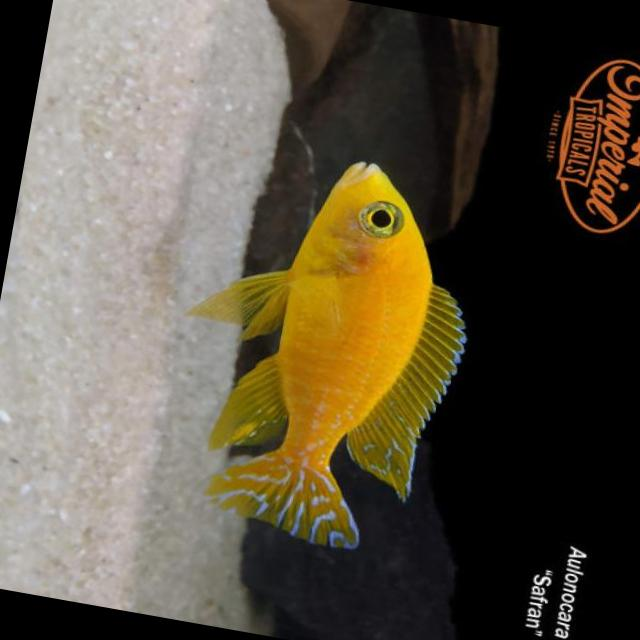YellowCichlid: (154, 129, 506, 597)
